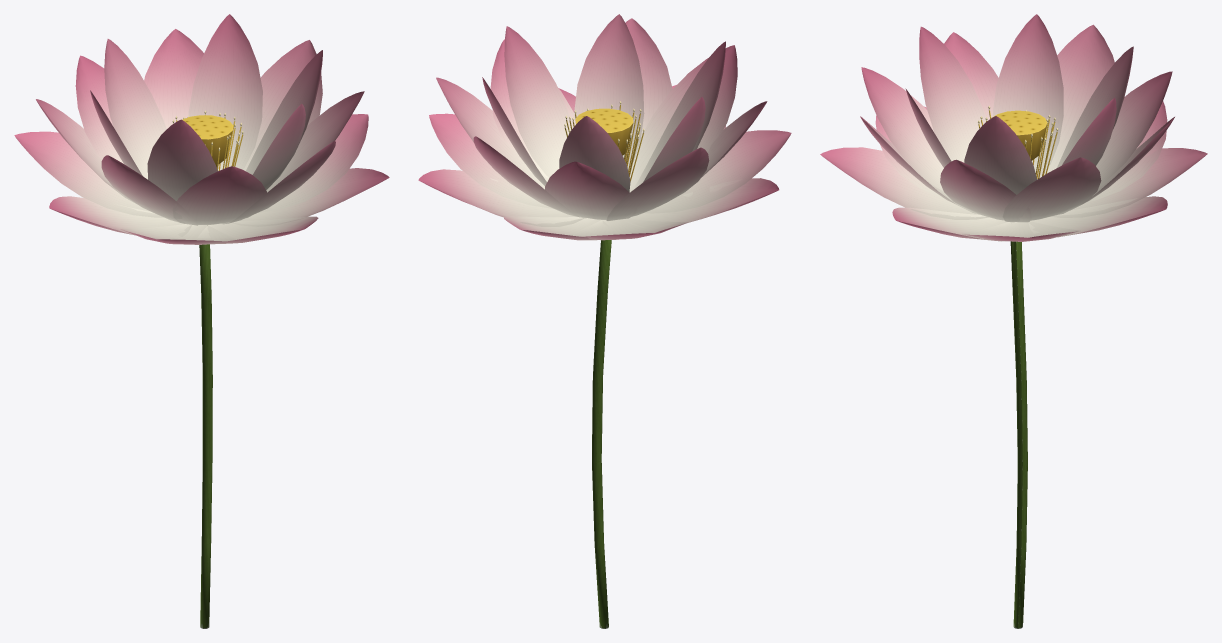
Rendered from lotus_flower_lod0.glb.
The picture shows the model from 3 angles, left to right: view 1: azimuth 30°, elevation 25°; view 2: azimuth 150°, elevation 25°; view 3: azimuth 270°, elevation 25°; orthographic projection.
Parts seen in each view (by area): view 1: lotus_petals, lotus_stem, lotus_heart; view 2: lotus_petals, lotus_stem, lotus_heart; view 3: lotus_petals, lotus_stem, lotus_heart.
Boxes of the visible parts, left/top/right/bottom form: lotus_petals: left=14, top=14, right=389, bottom=244; lotus_stem: left=199, top=244, right=212, bottom=628; lotus_heart: left=172, top=110, right=243, bottom=170; lotus_petals: left=418, top=14, right=791, bottom=240; lotus_stem: left=592, top=240, right=611, bottom=628; lotus_heart: left=564, top=101, right=644, bottom=181; lotus_petals: left=820, top=14, right=1207, bottom=241; lotus_stem: left=1010, top=241, right=1027, bottom=628; lotus_heart: left=978, top=105, right=1058, bottom=178.
Bounding box in the file's own units: 0.7465 × 1.2 × 0.7483.
Materials: 3 (3 with a texture image).
